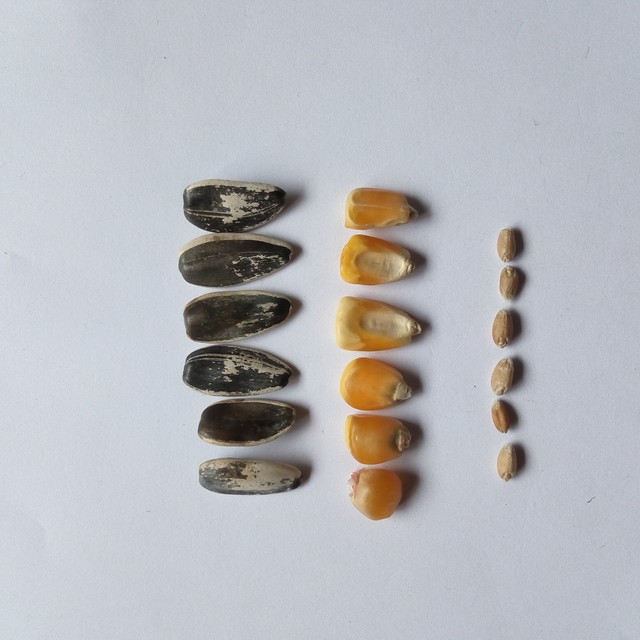girasol: (168, 233, 319, 289), (164, 347, 308, 397), (180, 290, 304, 344), (177, 177, 291, 232), (194, 400, 305, 449), (191, 454, 310, 498)
maiz: (336, 293, 428, 351), (332, 233, 422, 288), (331, 356, 420, 410), (337, 467, 420, 521), (340, 181, 429, 231), (344, 410, 423, 464)
trigo: (486, 305, 526, 349), (497, 438, 530, 486), (483, 398, 523, 436), (491, 356, 528, 397), (493, 225, 528, 265), (498, 267, 530, 304)
